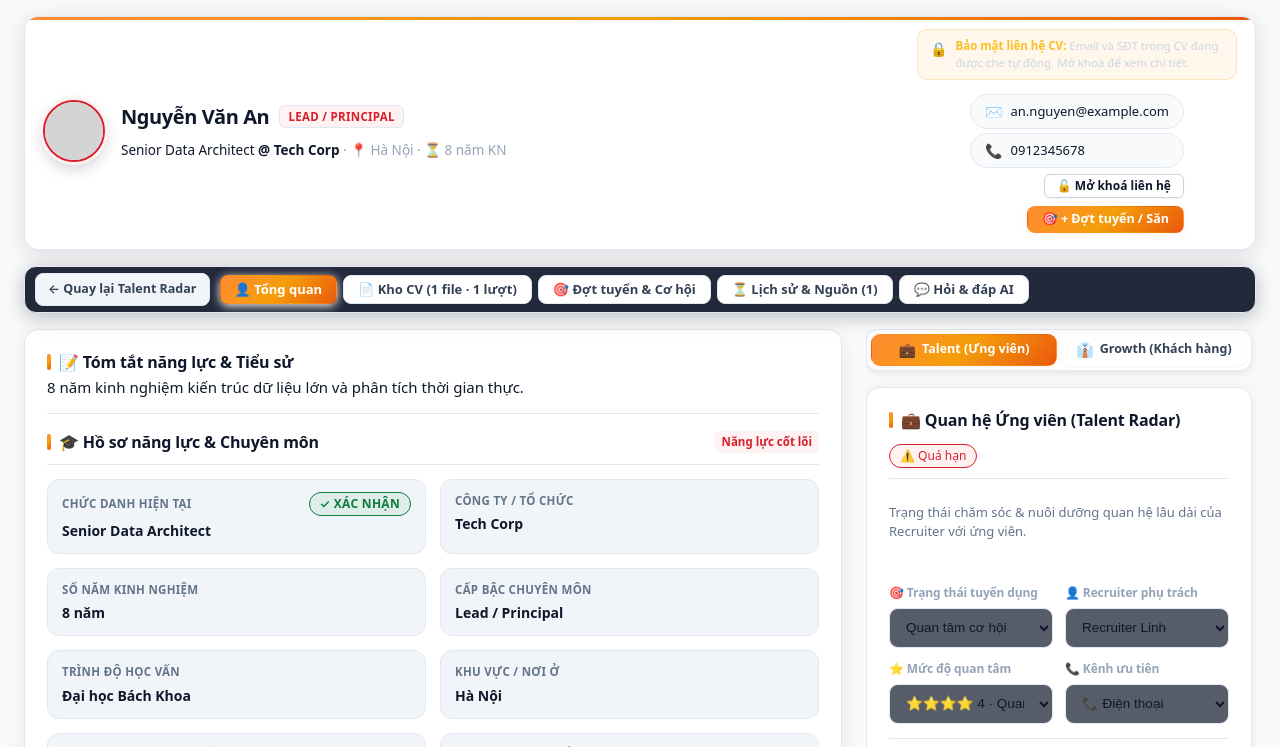
Scenario: Person360 Component - Hồ sơ 360° Hợp Nhất (/person/:id) › gộp toàn diện thông tin Ứng viên & Khách hàng và hiển thị bảng Quan hệ tương ứng theo ngữ cảnh
Expected: the heading "Nguyễn Văn An" is shown, x1=121 y1=102 x2=269 y2=132
Expected: the text "Senior Data Architect" in the row of "năm KN" is shown, x1=121 y1=141 x2=255 y2=159
Click the button named "Quan hệ Khách hàng (Growth)": [1154, 350] box x1=1061 y1=334 x2=1247 y2=366
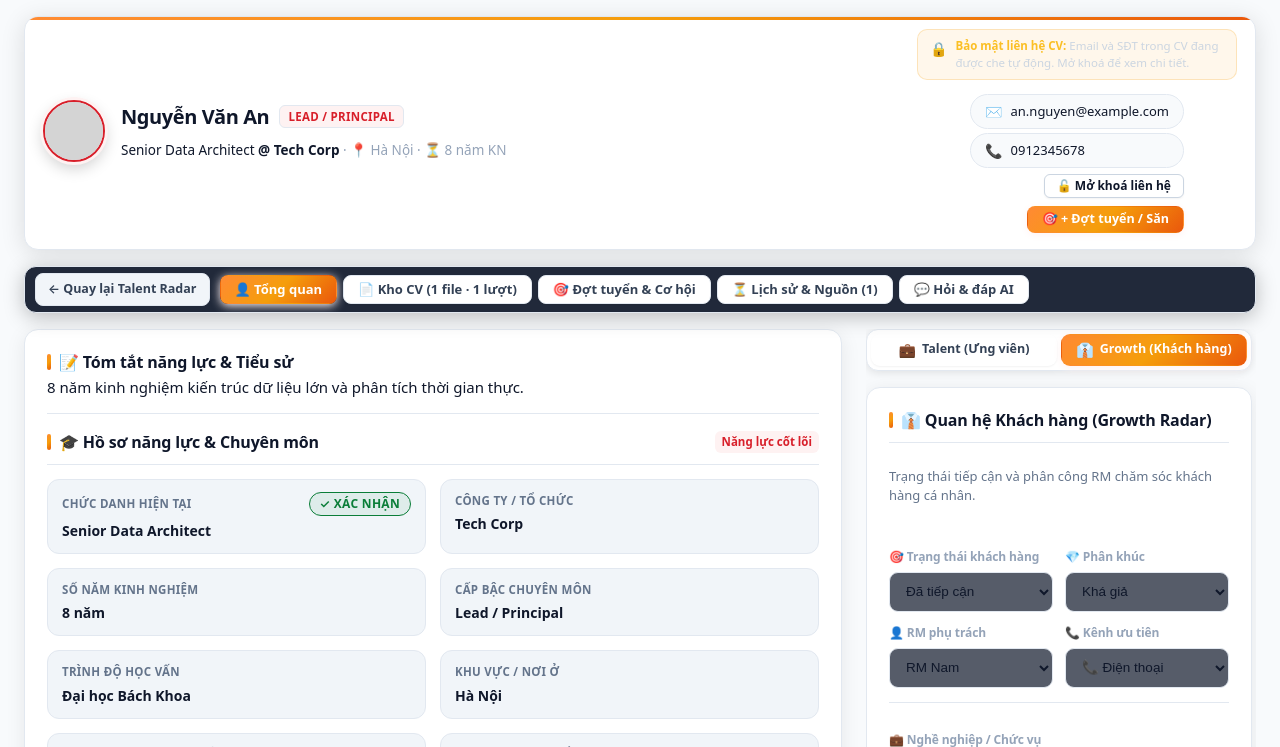
Expected: the heading "👔 Quan hệ Khách hàng (Growth Radar)" is shown, x1=889 y1=408 x2=1212 y2=432
